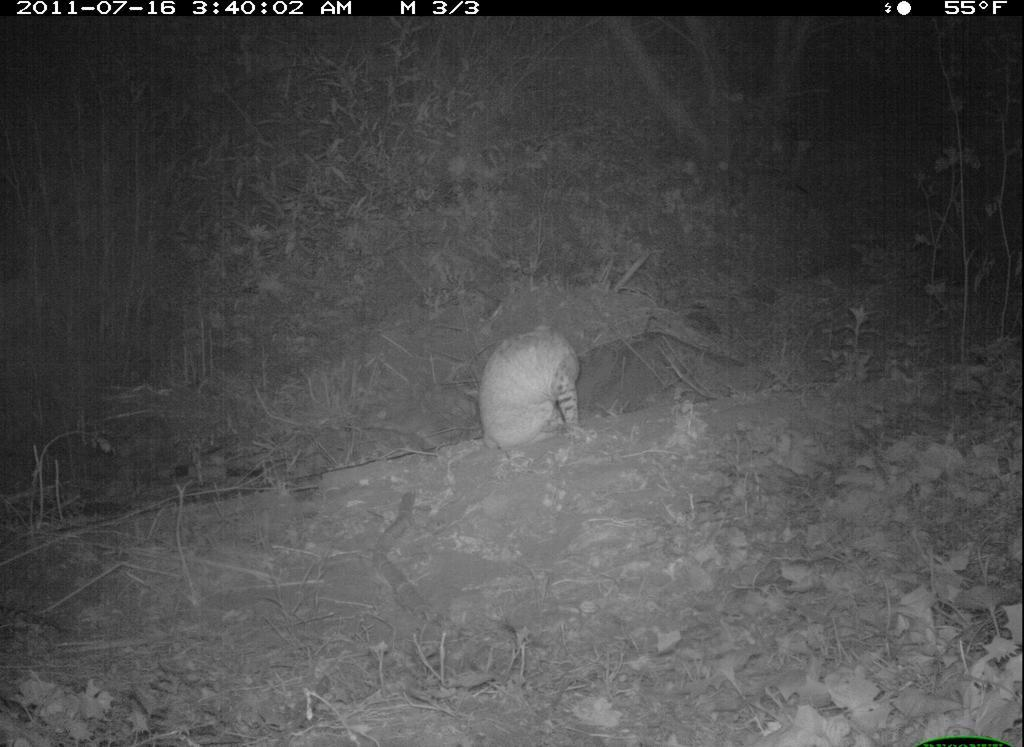bobcat: (473, 309, 594, 463)
